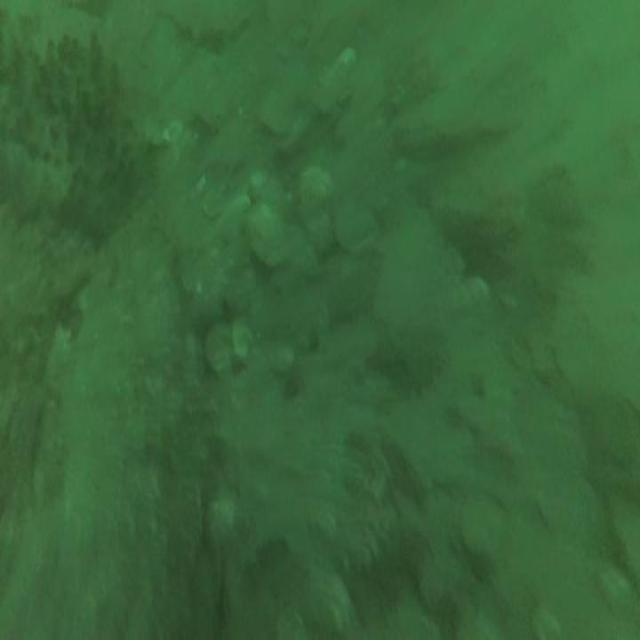scallop: (244, 201, 289, 267)
